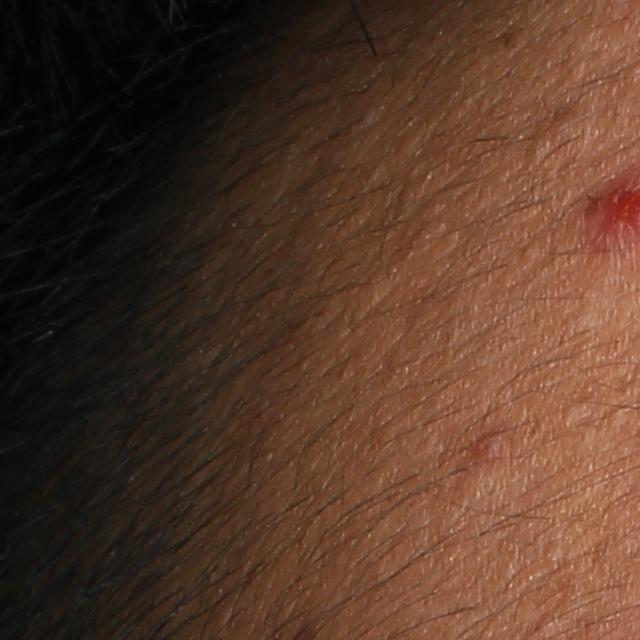comedo: (559, 398, 586, 428)
